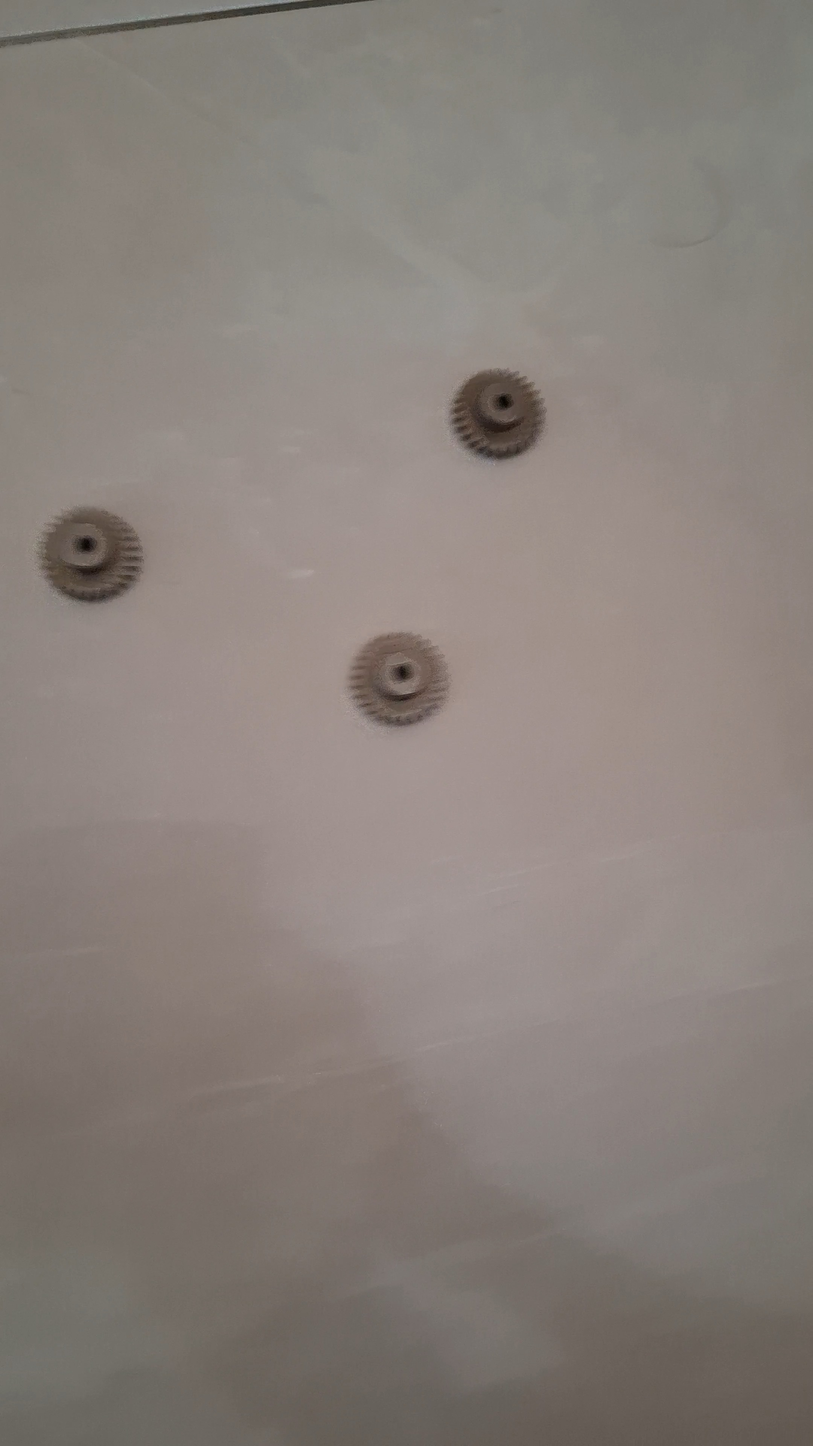spur gear: (40, 508, 142, 601), (349, 633, 448, 724), (451, 370, 545, 458)
